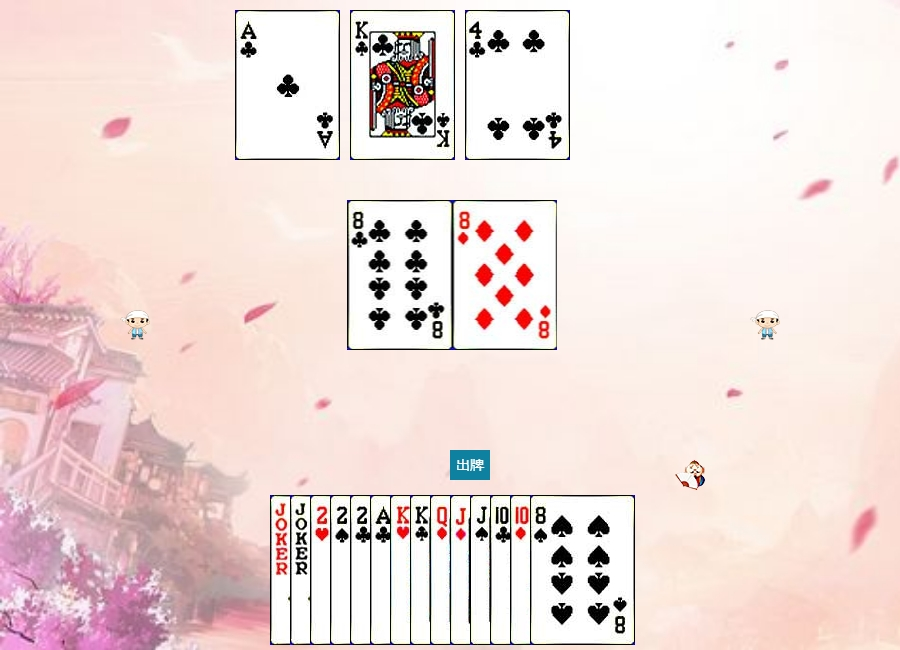10~1: (510, 495, 615, 645)
10~2: (490, 495, 595, 645)
11~1: (450, 495, 555, 645)
11~4: (470, 495, 575, 645)
12~1: (430, 495, 535, 645)
13~2: (350, 10, 455, 160), (410, 495, 515, 645)
13~3: (390, 495, 495, 645)
14~2: (235, 10, 340, 160), (370, 495, 475, 645)
15~2: (350, 495, 455, 645)
15~3: (310, 495, 415, 645)
15~4: (330, 495, 435, 645)
17~3: (290, 495, 395, 645)
18~4: (270, 495, 375, 645)
4~2: (465, 10, 570, 160)
8~1: (453, 200, 558, 350)
8~2: (348, 200, 453, 350)
8~4: (530, 495, 635, 645)
